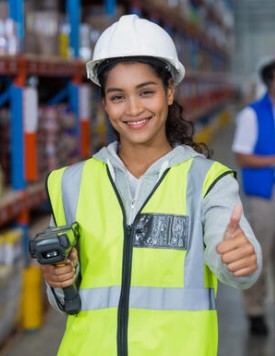worker: (48, 14, 220, 356)
